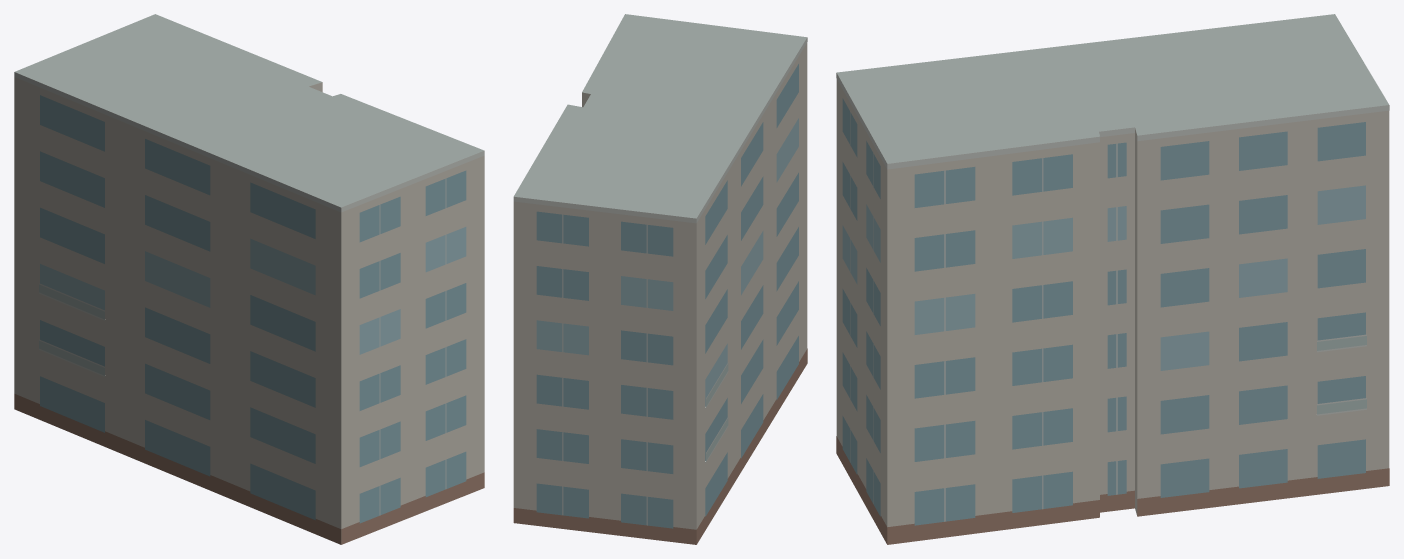
Rendered from survey-upis-32576503.glb.
The picture shows the model from 3 angles, left to right: view 1: azimuth 30°, elevation 25°; view 2: azimuth 150°, elevation 25°; view 3: azimuth 270°, elevation 25°; orthographic projection. The views are drawn at different scales.
Visible parts, largest first — view 1: survey-upis-32576503.tmp; view 2: survey-upis-32576503.tmp; view 3: survey-upis-32576503.tmp.
Boxes of the visible parts, x1,y1,x2,y2 form: survey-upis-32576503.tmp: (14,14,484,544); survey-upis-32576503.tmp: (513,14,807,544); survey-upis-32576503.tmp: (836,14,1389,544).
Bounding box in the file's own units: 14.02 × 16.6 × 21.85.
